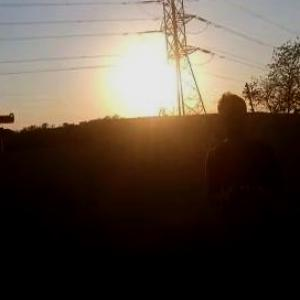follow: (202, 88, 291, 299)
